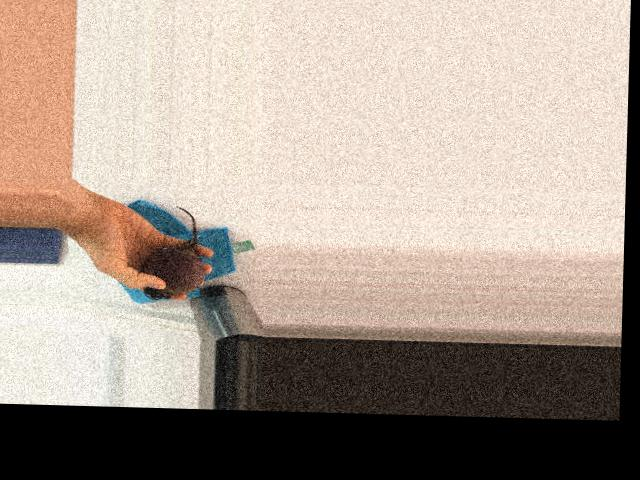beet: (137, 205, 206, 300)
